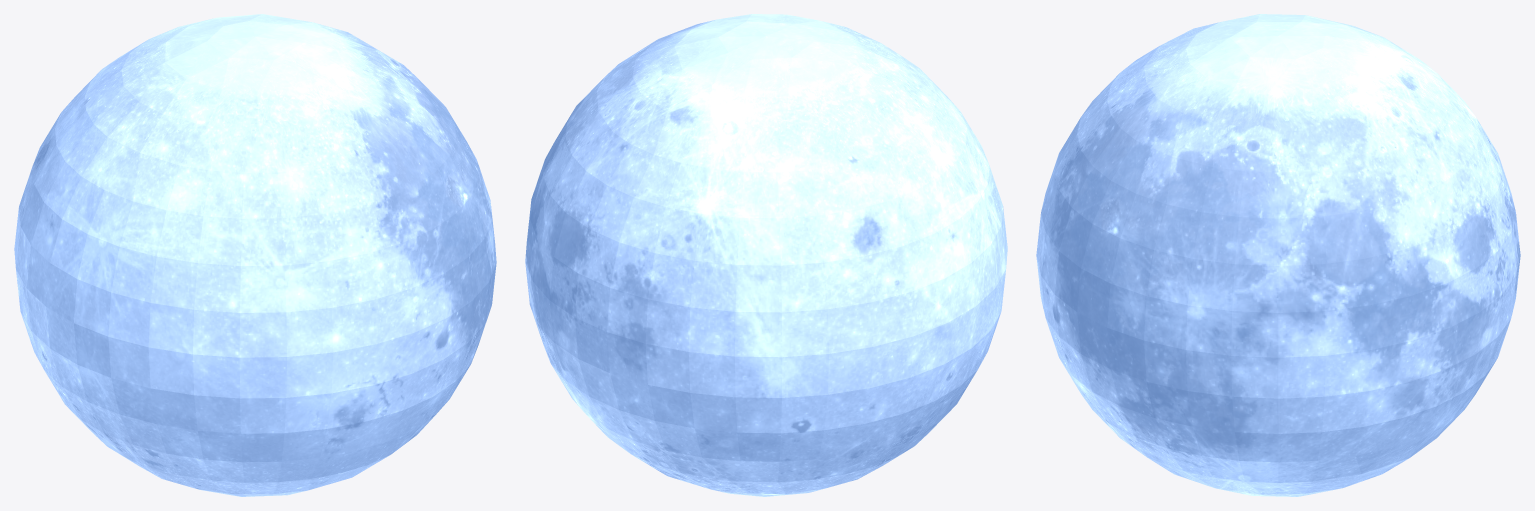
File: moon.glb
The picture shows the model from 3 angles, left to right: view 1: azimuth 30°, elevation 25°; view 2: azimuth 150°, elevation 25°; view 3: azimuth 270°, elevation 25°; orthographic projection.
Parts seen in each view (by area): view 1: Sphere; view 2: Sphere; view 3: Sphere.
Boxes of the visible parts, bbox=[...] form: Sphere: bbox=[14, 14, 496, 496]; Sphere: bbox=[525, 14, 1007, 496]; Sphere: bbox=[1036, 14, 1520, 496].
Bounding box in the file's own units: 2 × 2 × 2.
Materials: 1 (1 with a texture image).
